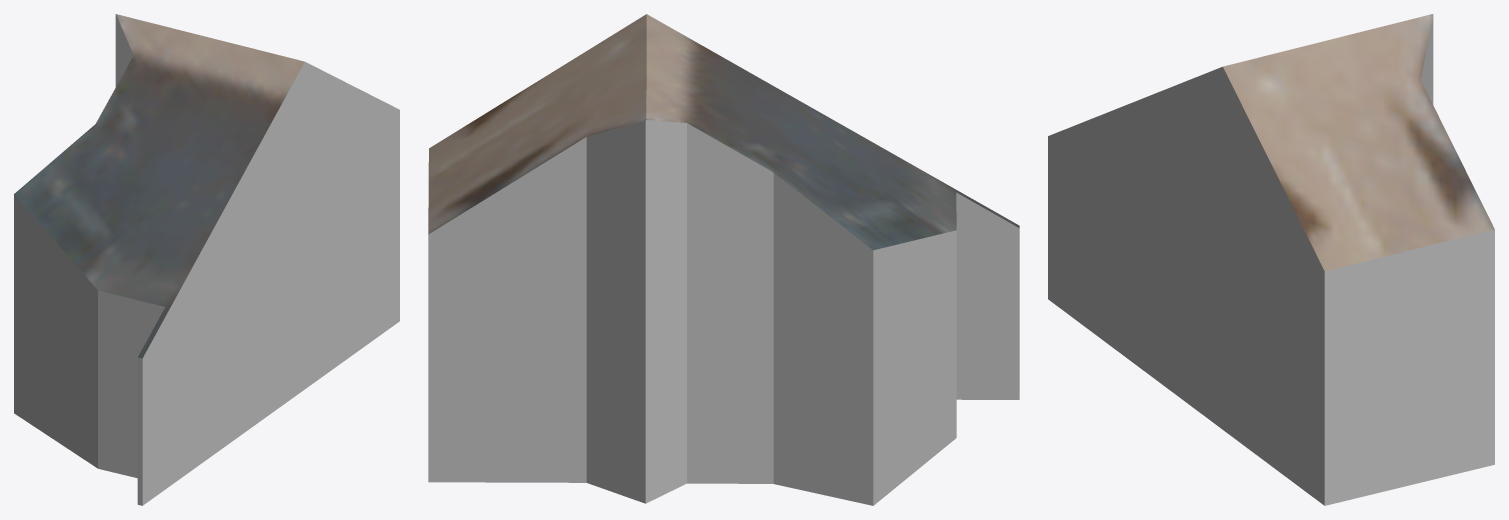
File: DEBW_0010007TvlT.gltf
The picture shows the model from 3 angles, left to right: view 1: azimuth 30°, elevation 25°; view 2: azimuth 150°, elevation 25°; view 3: azimuth 270°, elevation 25°; orthographic projection. The views are drawn at different scales.
Parts seen in each view (by area): view 1: Z_UP; view 2: Z_UP; view 3: Z_UP.
Part boxes in pixels (left/top/right/bottom): Z_UP: left=14, top=14, right=399, bottom=505; Z_UP: left=428, top=14, right=1019, bottom=505; Z_UP: left=1048, top=14, right=1494, bottom=505.
Bounding box in the file's own units: 13.62 × 11.15 × 12.37.
2 materials, 1 textured.
